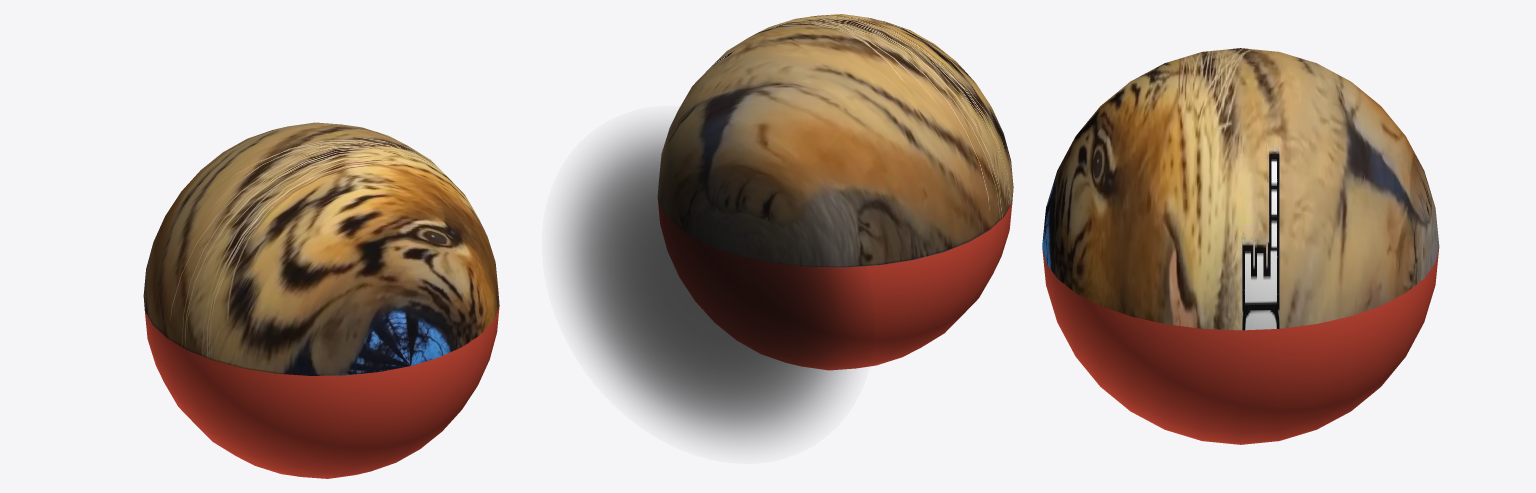
Rendered from test_ombre.glb.
3 renders of one model, left to right at view 1: azimuth 30°, elevation 25°; view 2: azimuth 150°, elevation 25°; view 3: azimuth 270°, elevation 25°, orthographic. The views are drawn at different scales.
Parts seen in each view (by area): view 1: Circle; view 2: Circle; view 3: Circle.
Part boxes in pixels (left/top/right/bottom): Circle: left=143, top=122, right=499, bottom=478; Circle: left=559, top=14, right=1013, bottom=444; Circle: left=1042, top=48, right=1439, bottom=444.
Bounding box in the file's own units: 2.34 × 2.34 × 2.42.
Materials: 3 (2 with a texture image).
